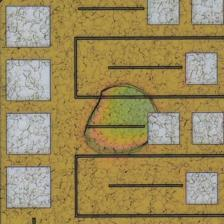COATING BAD: (83, 85, 160, 155)
